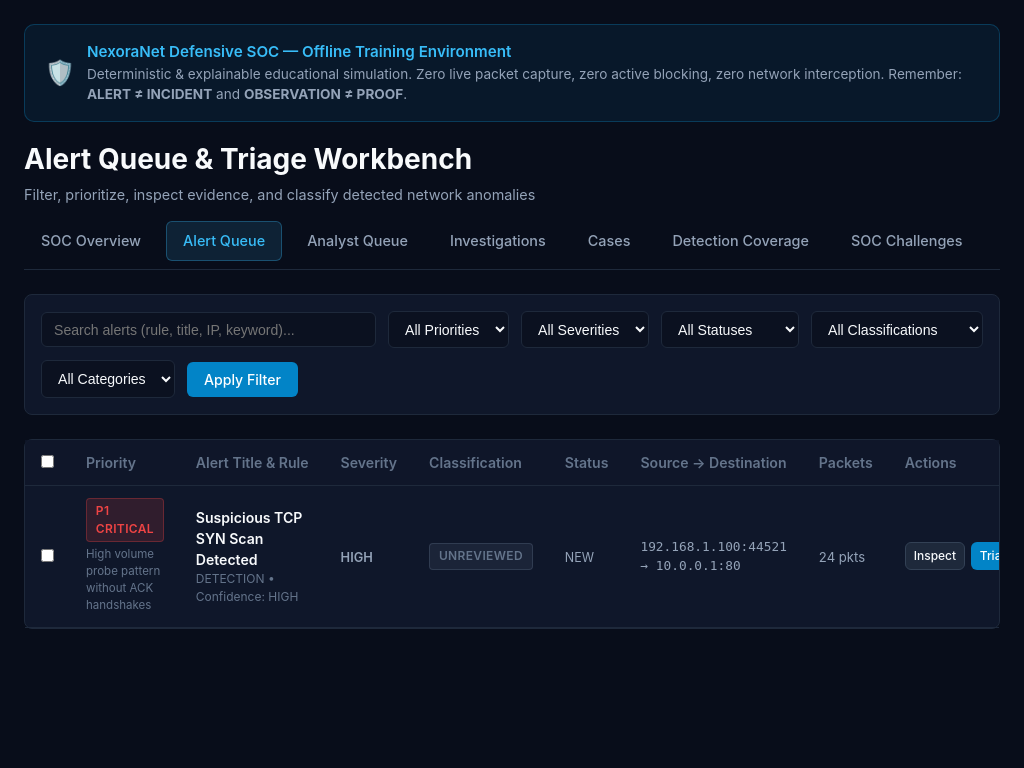
Scenario: Step 12 SOC Dashboard, Alert Queue, Triage & Investigations › renders Alert Queue and supports filtering and selection
Expected: the heading "Alert Queue & Triage Workbench" is shown, [24,138,535,180]
Expected: the text "Suspicious TCP SYN Scan Detected" is shown, [196,507,309,570]
Click the checkbox named "Select alert 101" at [48, 555], box [41,549,54,562]
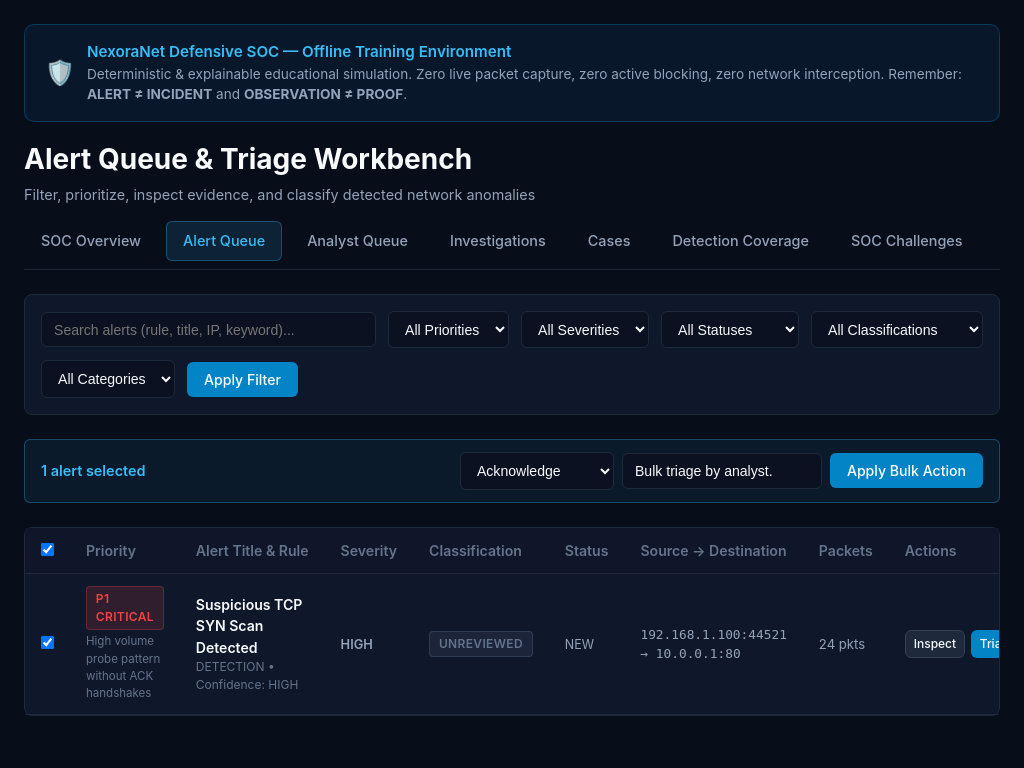
Expected: the text "1 alert selected" is shown, [41,460,146,482]
